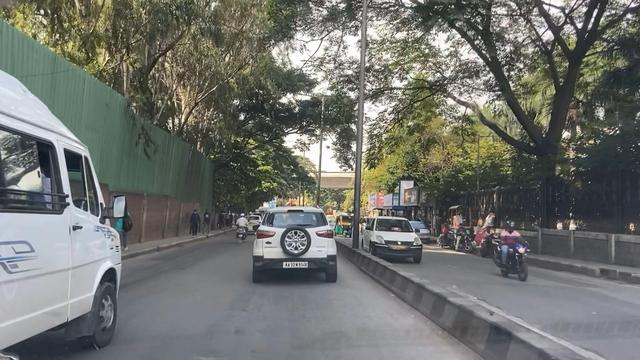HMV: (3, 69, 130, 352)
LMV: (252, 205, 340, 283)
